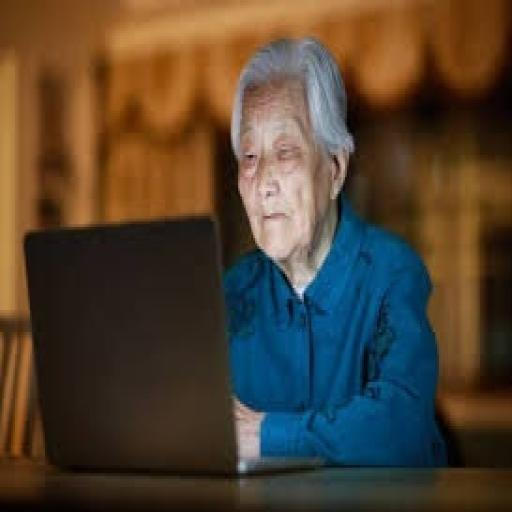using_laptop: (20, 208, 324, 478)
